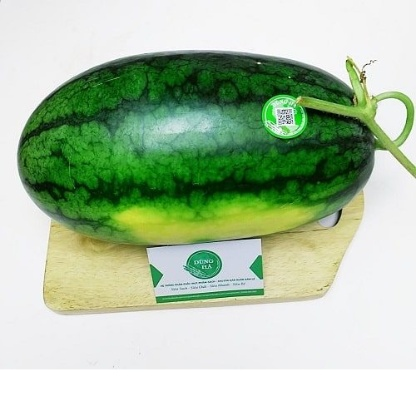duahau: (16, 68, 398, 282)
